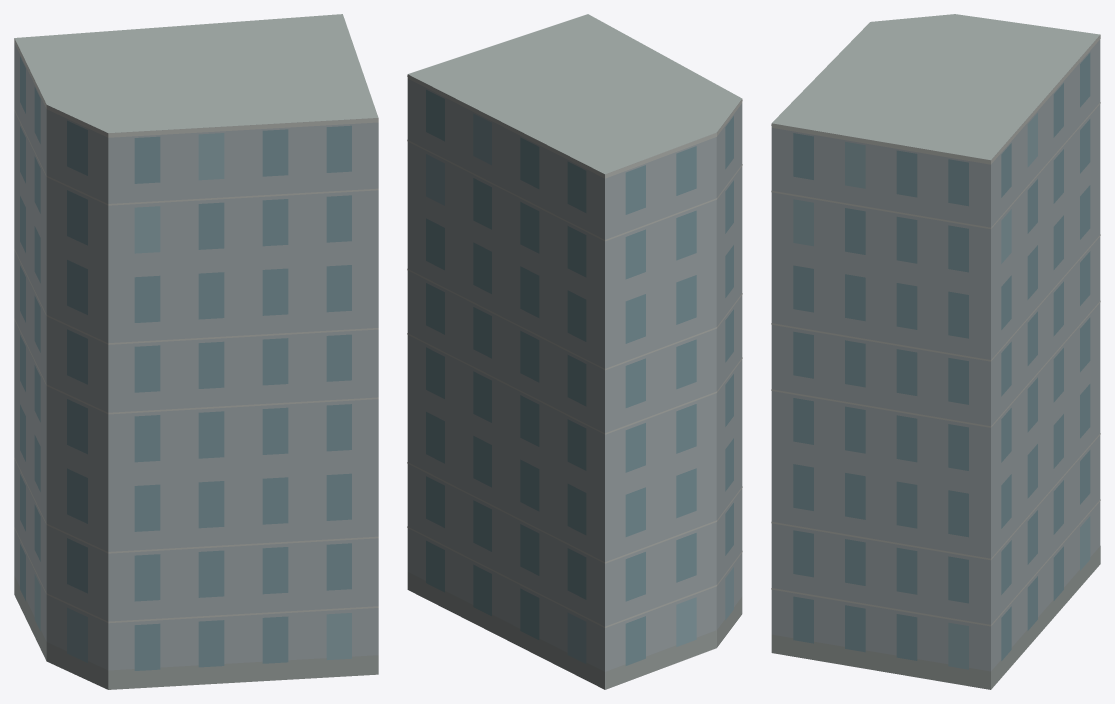
Rendered from survey-upis-32880362.glb.
3 views of the same model, side by side, from view 1: azimuth 30°, elevation 25°; view 2: azimuth 150°, elevation 25°; view 3: azimuth 270°, elevation 25° (orthographic). The views are drawn at different scales.
Visible parts, largest first — view 1: survey-upis-32880362.tmp; view 2: survey-upis-32880362.tmp; view 3: survey-upis-32880362.tmp.
Part boxes in pixels (box(x1,y1,x2,y2)): survey-upis-32880362.tmp: box(14, 14, 378, 689); survey-upis-32880362.tmp: box(407, 14, 742, 689); survey-upis-32880362.tmp: box(771, 14, 1100, 689).
Bounding box in the file's own units: 17.32 × 29.2 × 16.46.
